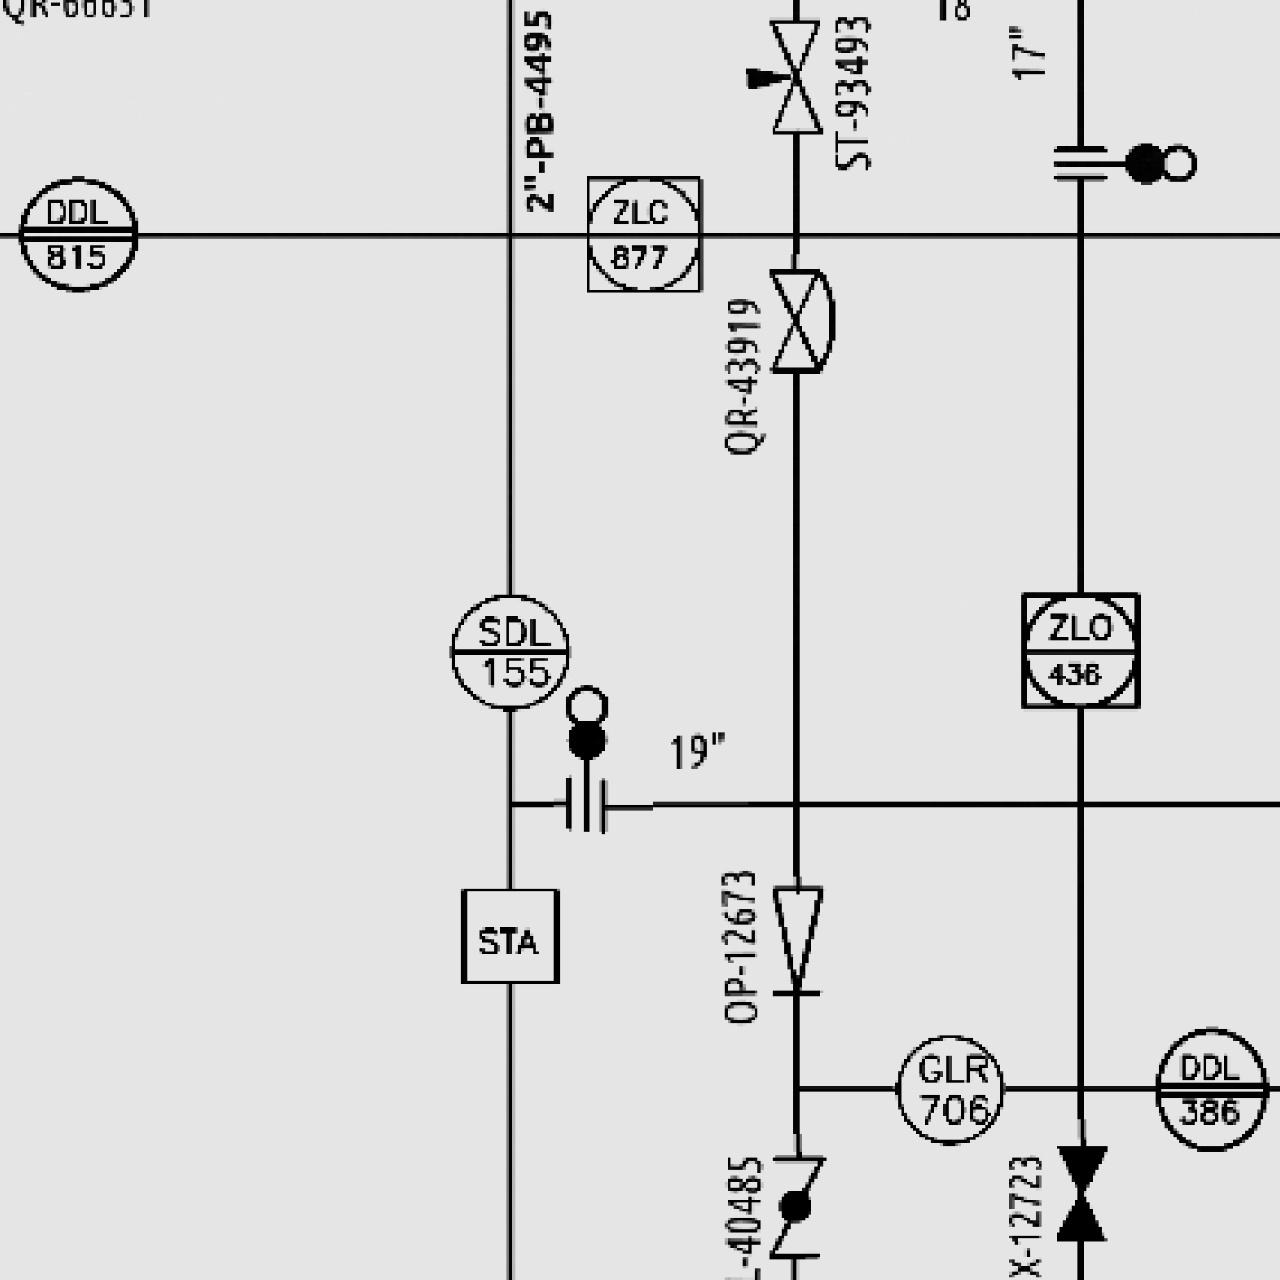Control-Panel: (1145, 1023, 1276, 1155), (14, 170, 141, 297)
